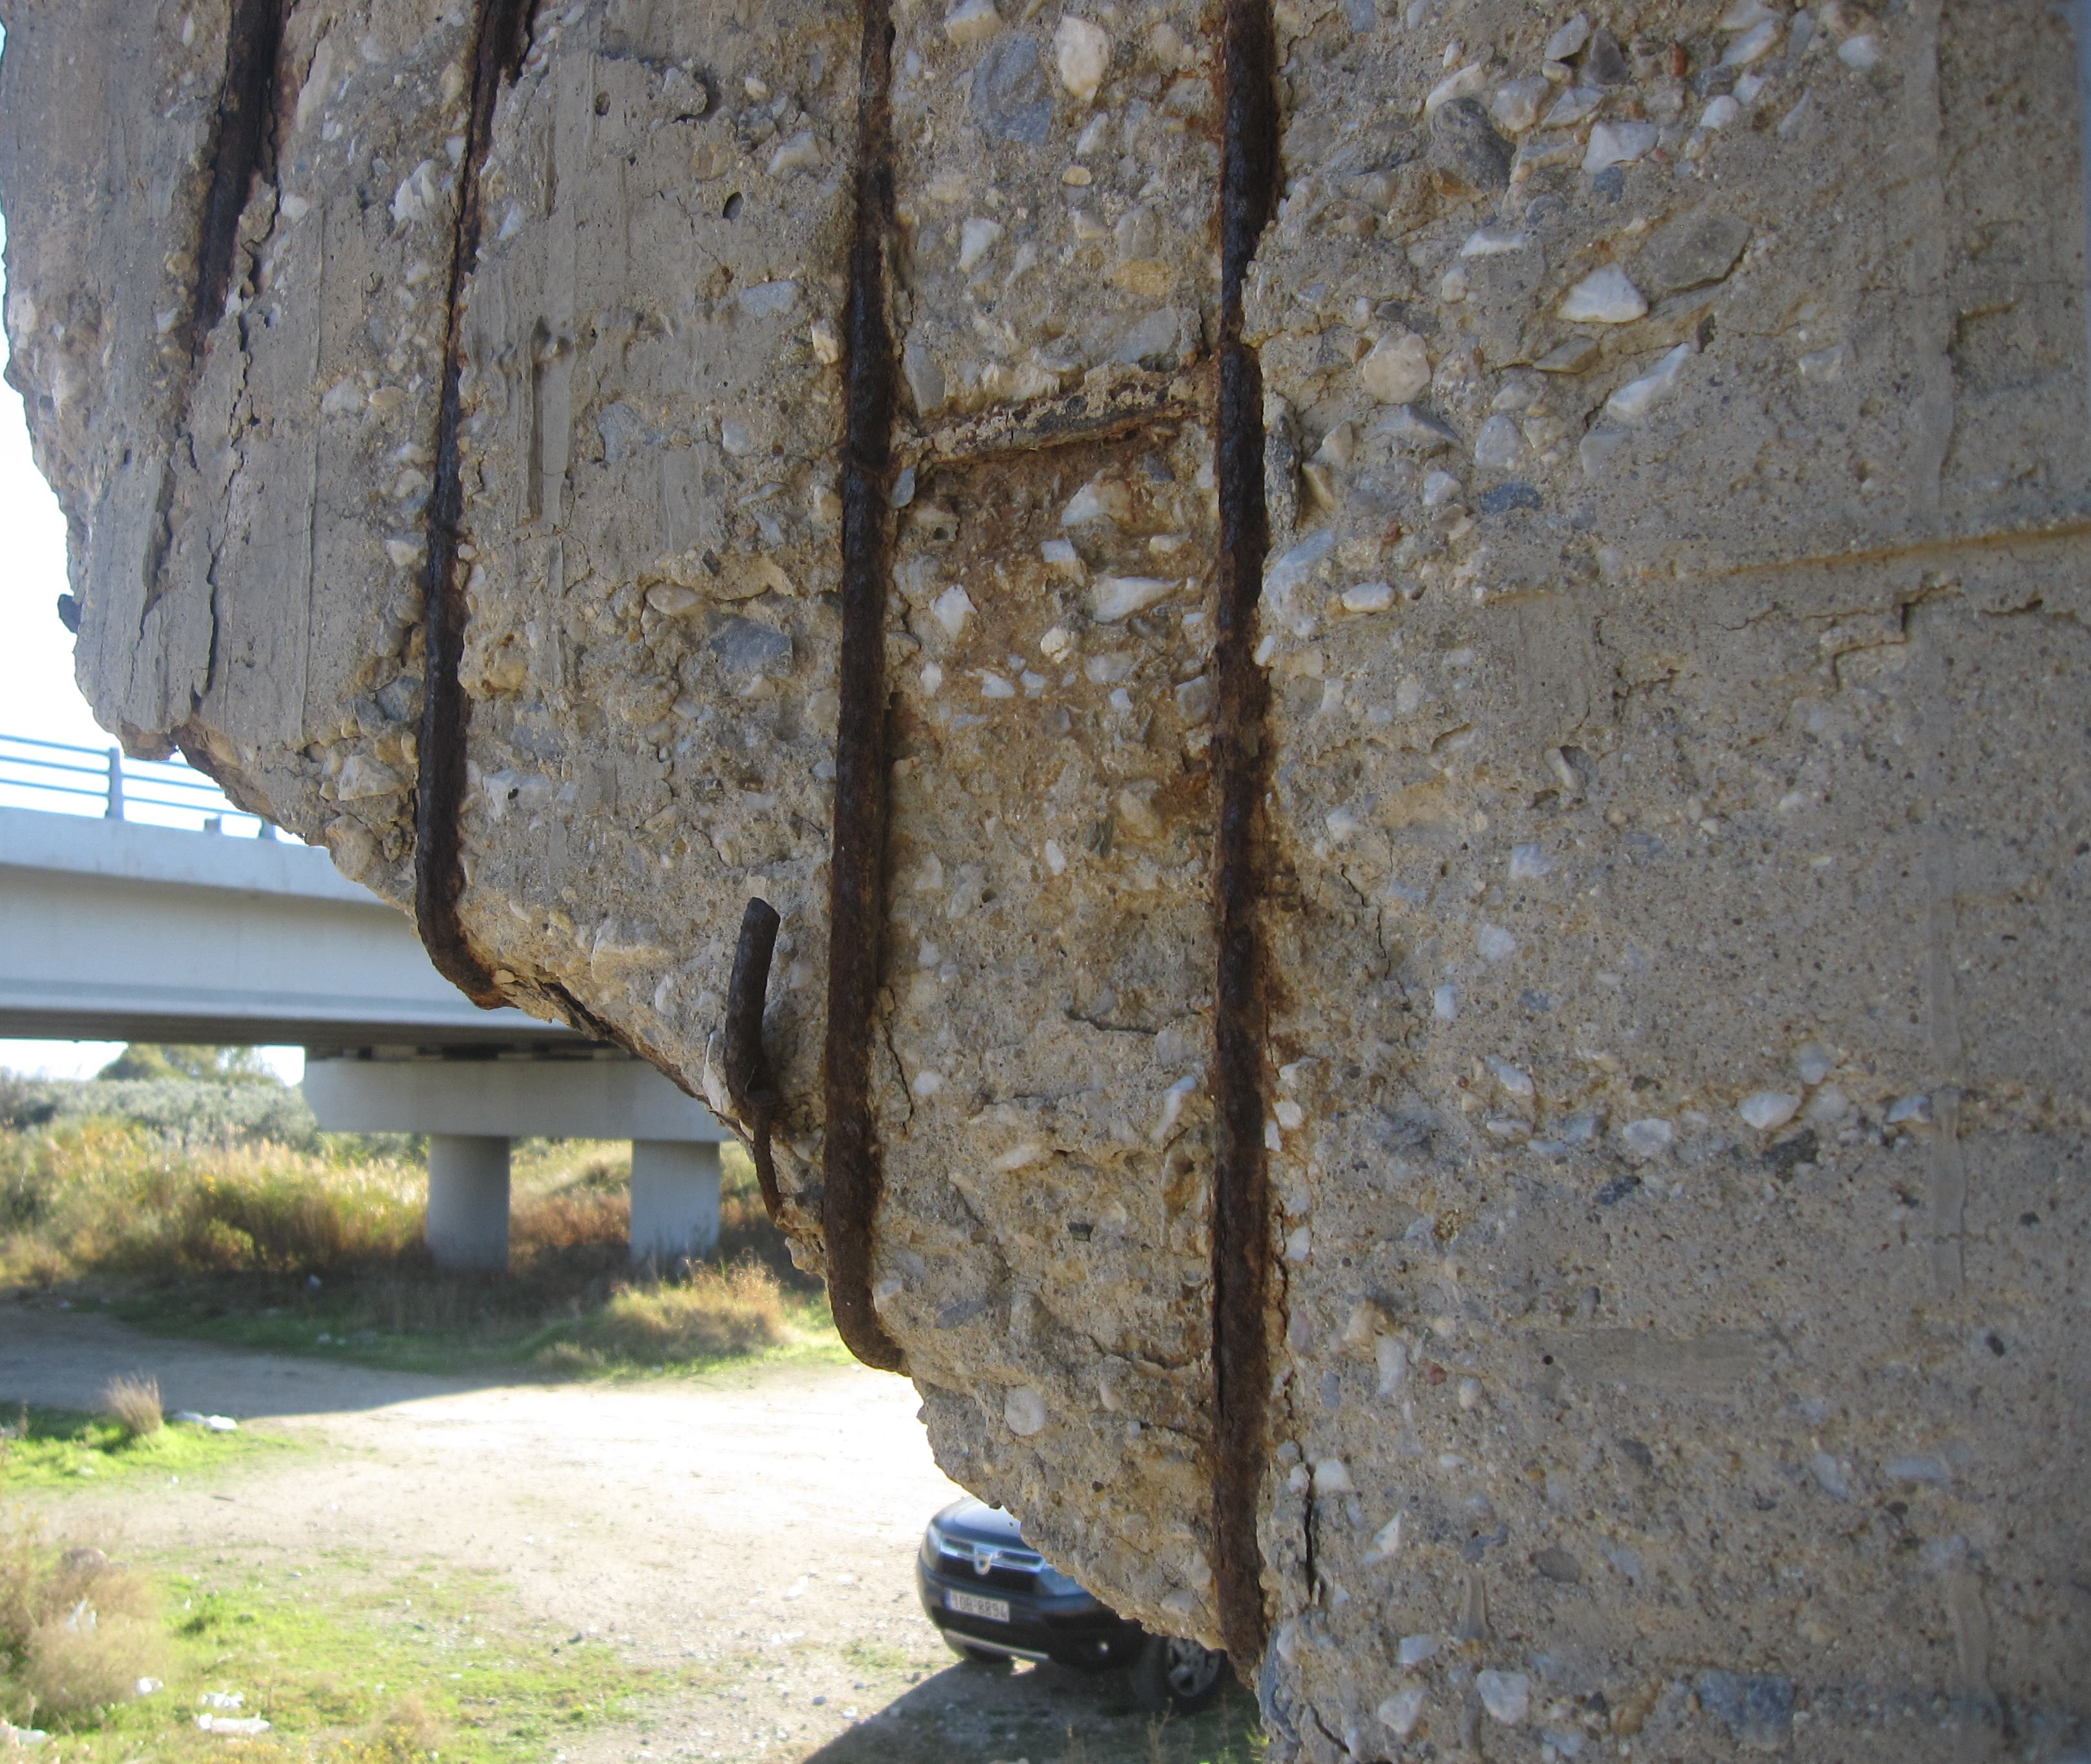Exposed reinforcement: (413, 0, 537, 1010), (1213, 0, 1286, 1694), (821, 0, 896, 1374), (896, 360, 1214, 483), (187, 0, 287, 357), (723, 896, 784, 1221)
